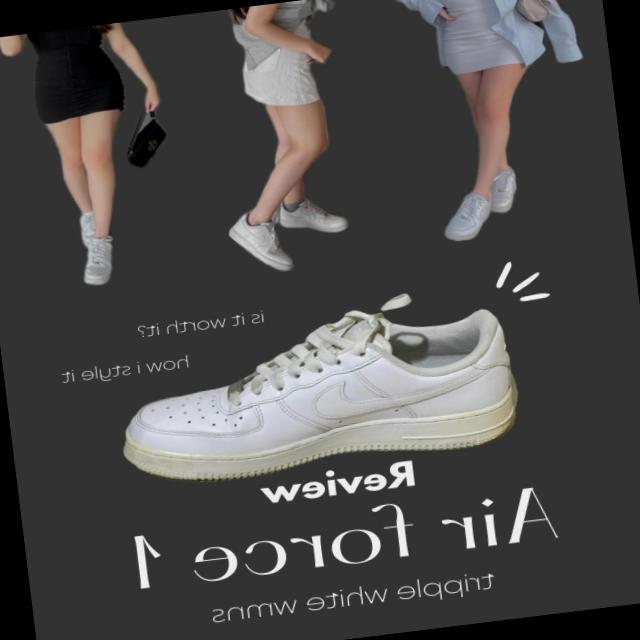nike_original_airforce: (112, 298, 529, 495)
